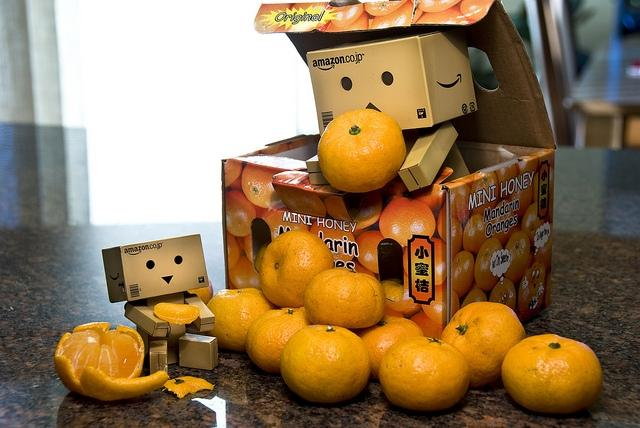orange: (54, 322, 216, 402), (501, 334, 602, 414), (318, 109, 407, 193), (280, 323, 371, 404), (441, 302, 526, 388), (378, 336, 470, 412), (259, 229, 334, 308), (203, 288, 283, 352), (304, 267, 386, 328), (351, 314, 426, 379), (245, 307, 313, 374), (379, 198, 436, 252), (242, 162, 290, 208), (403, 238, 447, 286), (276, 182, 326, 218), (264, 208, 310, 241), (474, 237, 502, 291), (226, 190, 256, 237), (504, 231, 530, 284), (387, 268, 418, 312), (522, 201, 550, 247), (422, 276, 448, 324), (471, 172, 498, 218), (352, 189, 383, 229), (356, 230, 384, 274), (371, 1, 414, 29), (411, 184, 446, 218), (228, 256, 262, 290), (462, 214, 490, 255), (452, 250, 475, 298), (290, 2, 334, 27), (522, 263, 545, 310), (414, 5, 468, 25), (254, 4, 290, 34), (410, 312, 448, 340), (446, 182, 471, 224), (154, 302, 200, 324), (324, 11, 369, 32), (488, 278, 516, 311), (512, 174, 533, 216), (330, 2, 364, 27), (532, 166, 554, 202), (323, 196, 352, 223), (494, 164, 517, 198), (188, 276, 214, 305), (460, 0, 494, 21), (364, 0, 408, 16), (411, 0, 462, 13), (528, 148, 555, 170), (460, 288, 488, 309), (379, 278, 404, 301), (224, 158, 243, 188), (345, 260, 376, 278), (516, 154, 538, 178), (227, 230, 240, 270), (452, 217, 463, 262), (272, 170, 310, 182), (225, 170, 244, 194), (535, 245, 552, 271), (437, 200, 447, 244), (498, 288, 514, 306), (244, 233, 253, 264), (451, 290, 460, 319), (236, 236, 245, 252)
